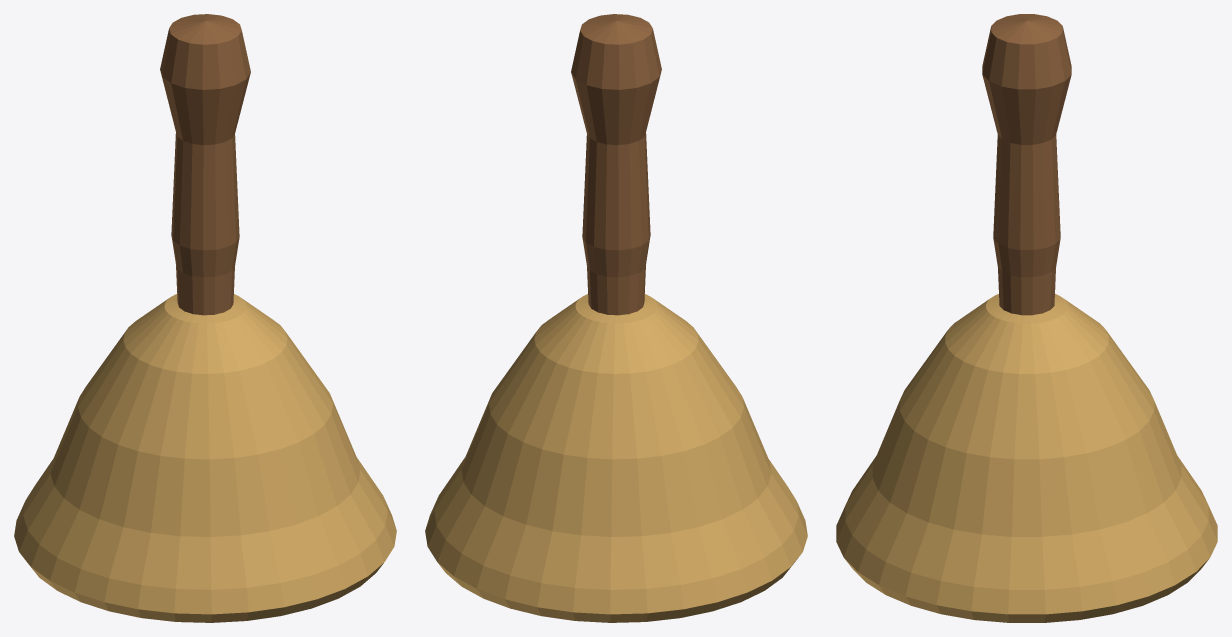
3 views of the same model, side by side, from view 1: azimuth 30°, elevation 25°; view 2: azimuth 150°, elevation 25°; view 3: azimuth 270°, elevation 25° (orthographic).
Parts seen in each view (by area): view 1: WholeFlaredHollowBellShell, WholeTurnedWoodenHandle; view 2: WholeFlaredHollowBellShell, WholeTurnedWoodenHandle; view 3: WholeFlaredHollowBellShell, WholeTurnedWoodenHandle.
Part boxes in pixels (x1,y1,x2,y2): WholeFlaredHollowBellShell: (14,294,396,622); WholeTurnedWoodenHandle: (160,14,250,315); WholeFlaredHollowBellShell: (425,294,807,622); WholeTurnedWoodenHandle: (571,14,661,315); WholeFlaredHollowBellShell: (836,294,1217,622); WholeTurnedWoodenHandle: (982,14,1071,315).
Size of the model in its own units: 0.0836 by 0.127 by 0.0836.
